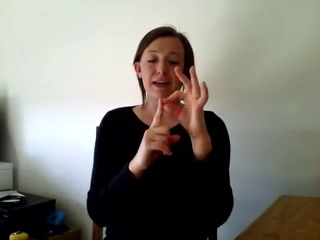G: (138, 67, 215, 175)
